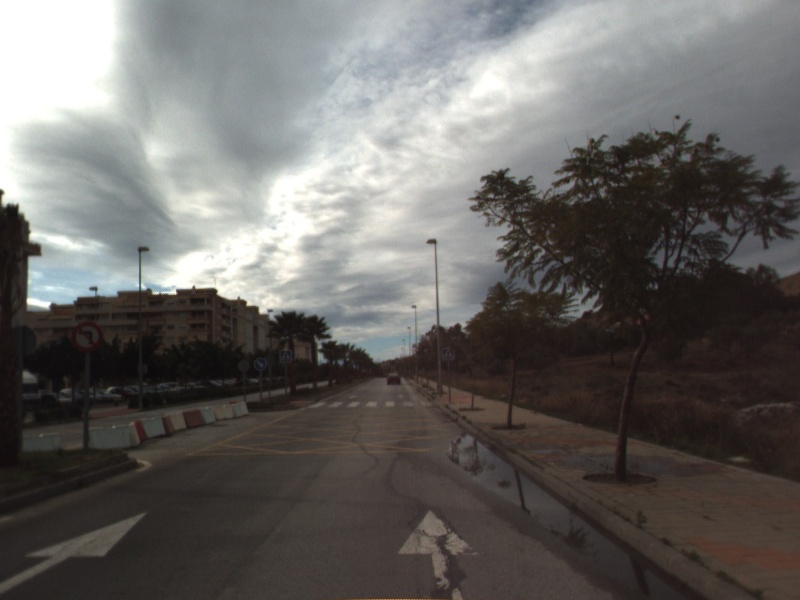STRAIGHT: (1, 509, 151, 594), (395, 505, 484, 600)
